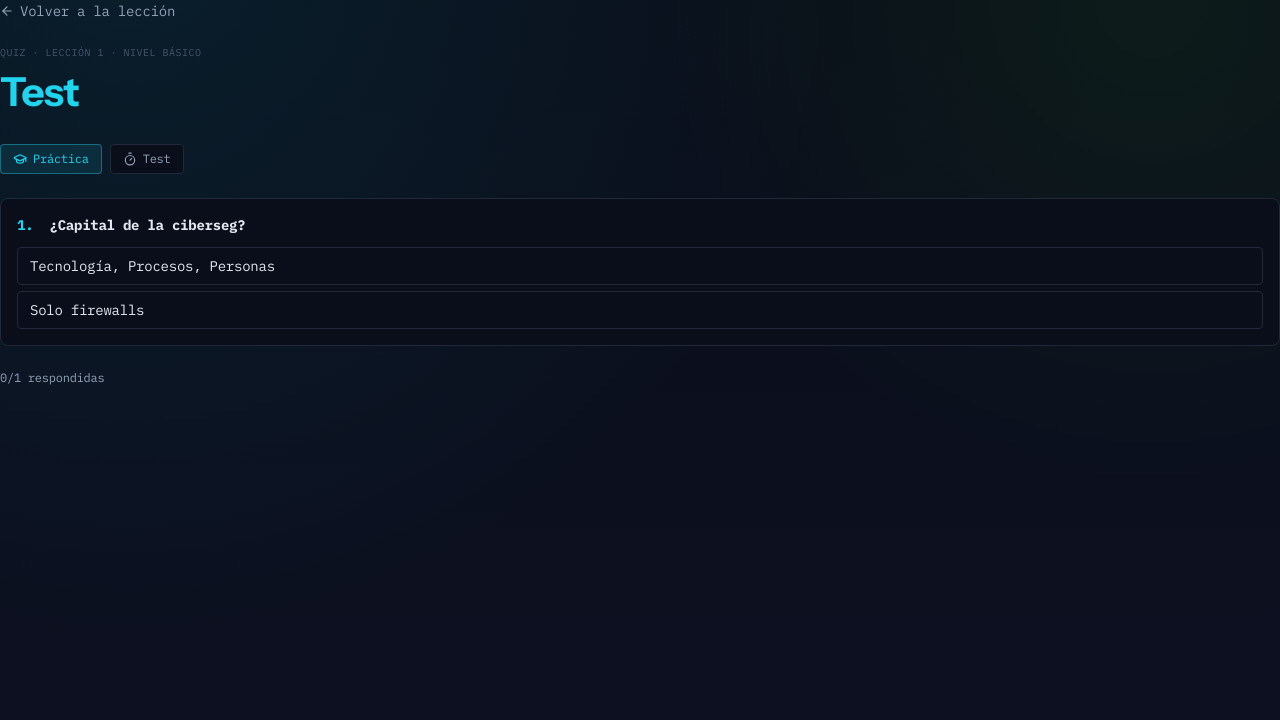
QuizRunner — al aprobar (confirmación + navegación) › muestra 'Guardado ✓' y el botón 'Continuar →' cuando hay próxima lección
Step 1. Click the button "Tecnología, Procesos, Personas" → [152, 266], box [17,247,1263,285]
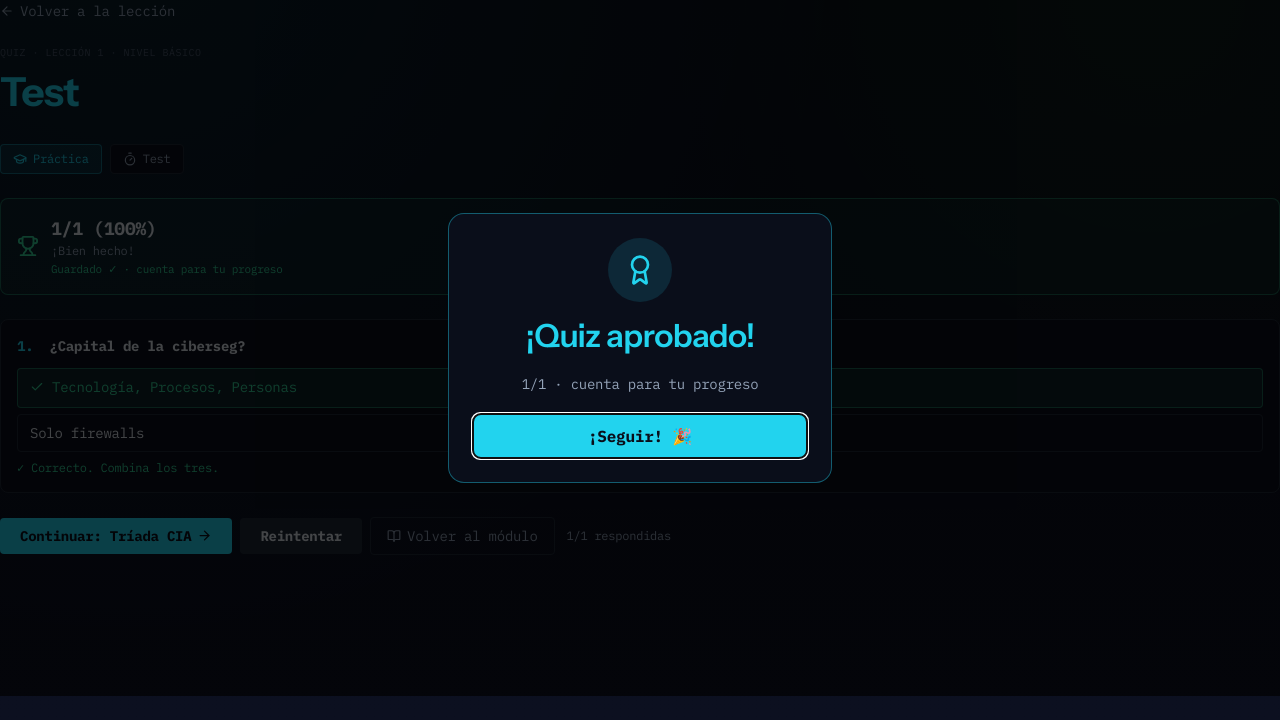
Expected: the text "Guardado ✓ · cuenta para tu progreso" is shown, [51,261,283,278]
Expected: the link "Continuar: Tríada CIA" is shown, [0,518,232,554]
